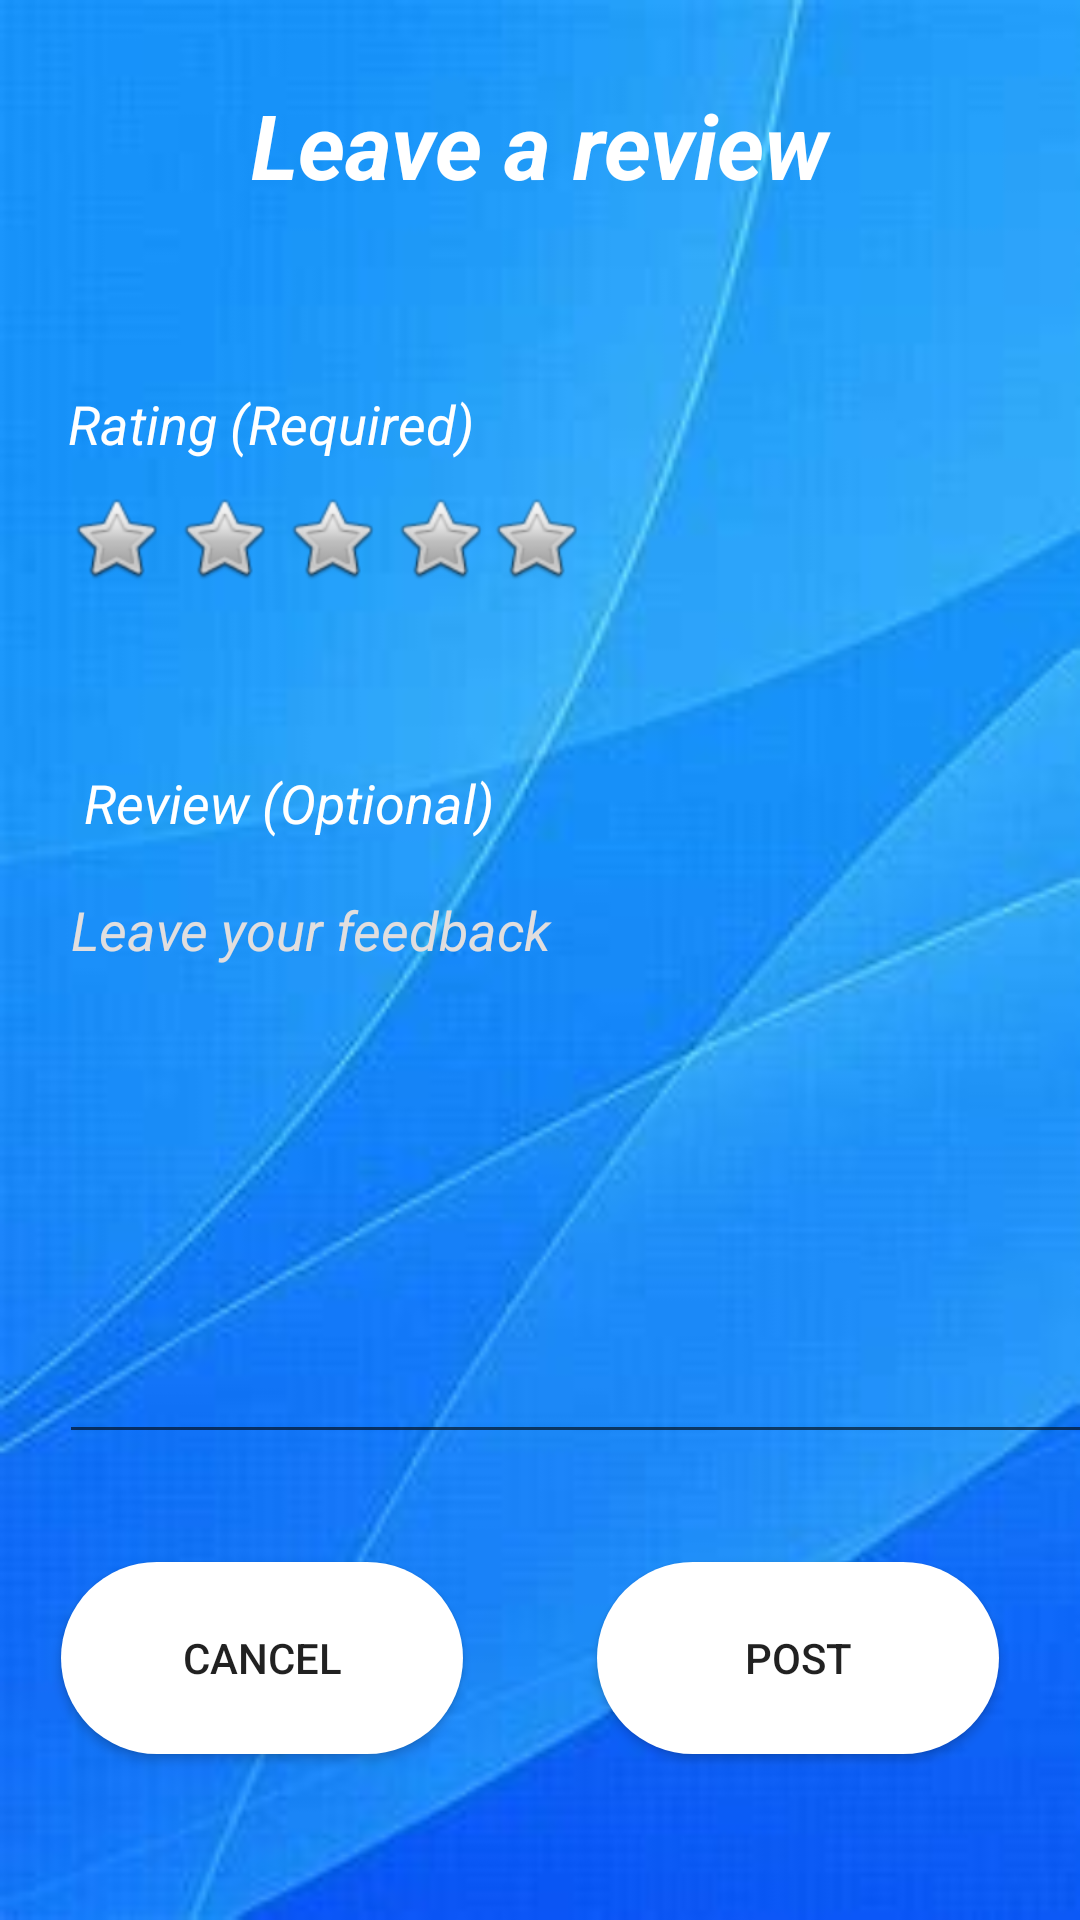

Where to tap for icons on this 1080 x 1920 app screen, as (x,y):
star off: (117,539), (225,539), (333,539), (441,539), (537,539)
